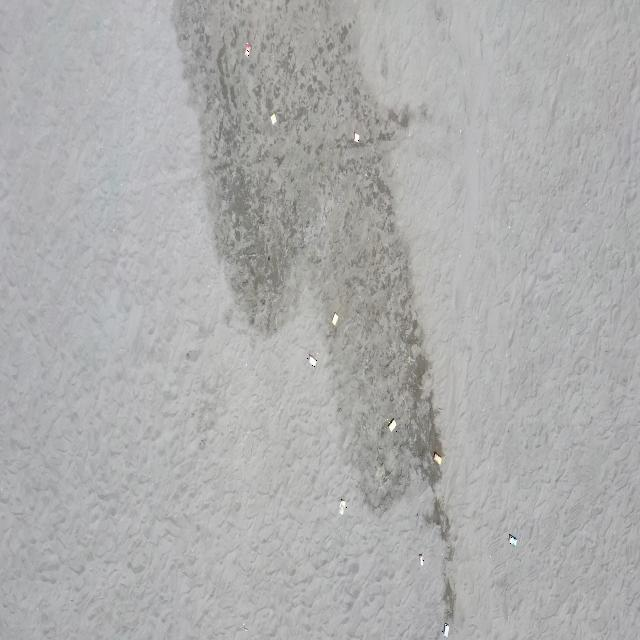Garbage: (432, 451, 442, 464), (307, 353, 316, 367), (339, 497, 346, 513), (508, 533, 516, 546), (387, 420, 395, 431), (244, 43, 251, 55), (352, 131, 359, 140), (332, 312, 337, 324), (271, 113, 276, 123), (419, 552, 423, 564), (443, 623, 447, 635), (241, 623, 247, 630)
